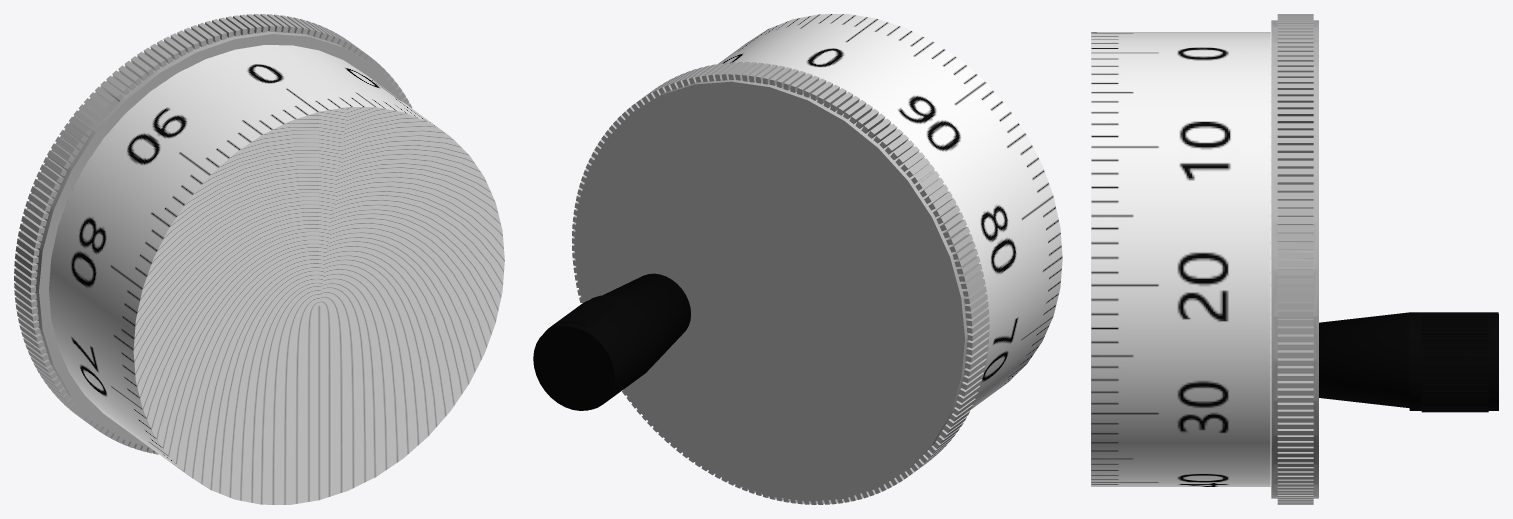
The model's file is 移动测量旋钮.obj.
The picture shows the model from 3 angles, left to right: view 1: azimuth 30°, elevation 25°; view 2: azimuth 150°, elevation 25°; view 3: azimuth 270°, elevation 25°; orthographic projection. The views are drawn at different scales.
Bounding box in the file's own units: 72.62 × 72.62 × 60.3.
